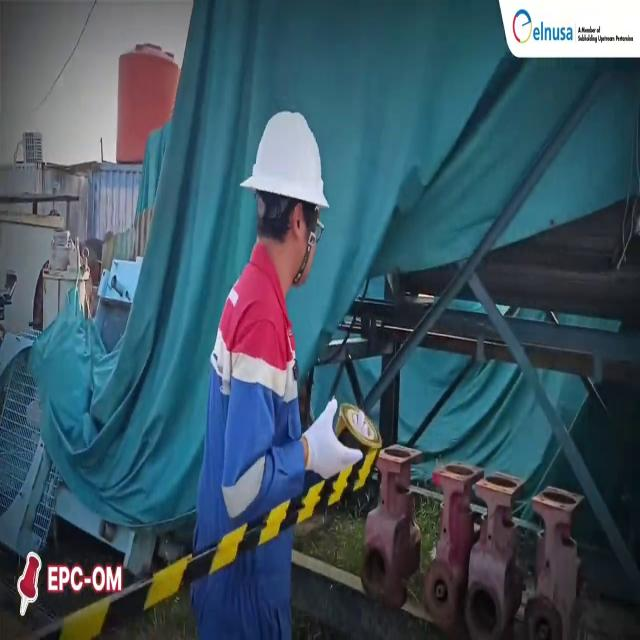Gloves: (303, 396, 362, 485)
Hardhat: (240, 109, 331, 211)
Overall Suit: (192, 246, 303, 640)
Strapped: (294, 214, 316, 286)
